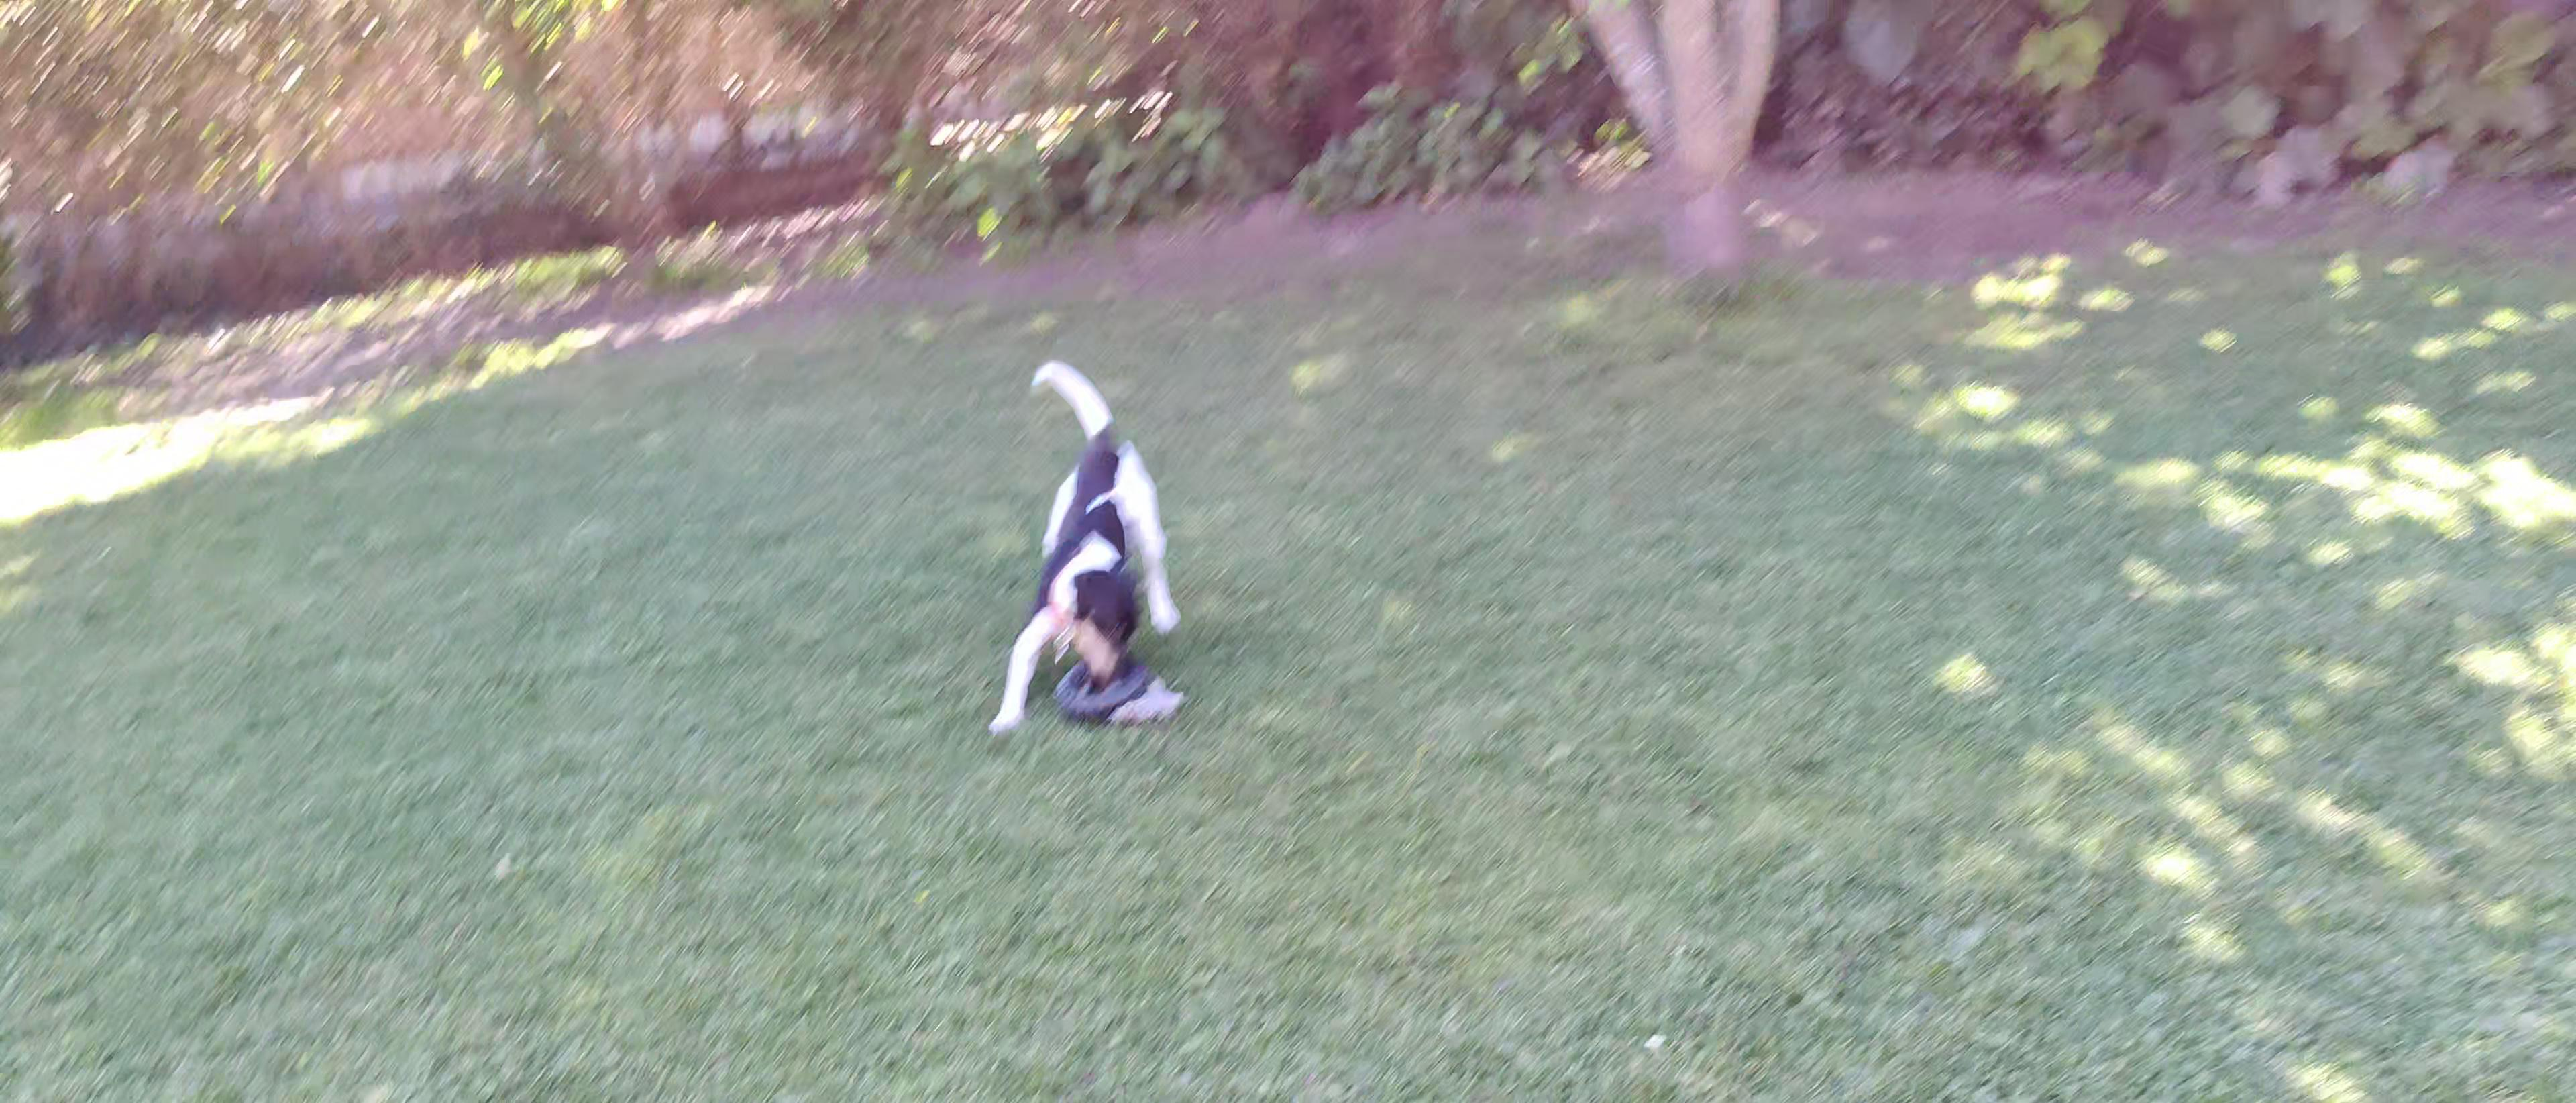Dog: (979, 347, 1184, 746)
